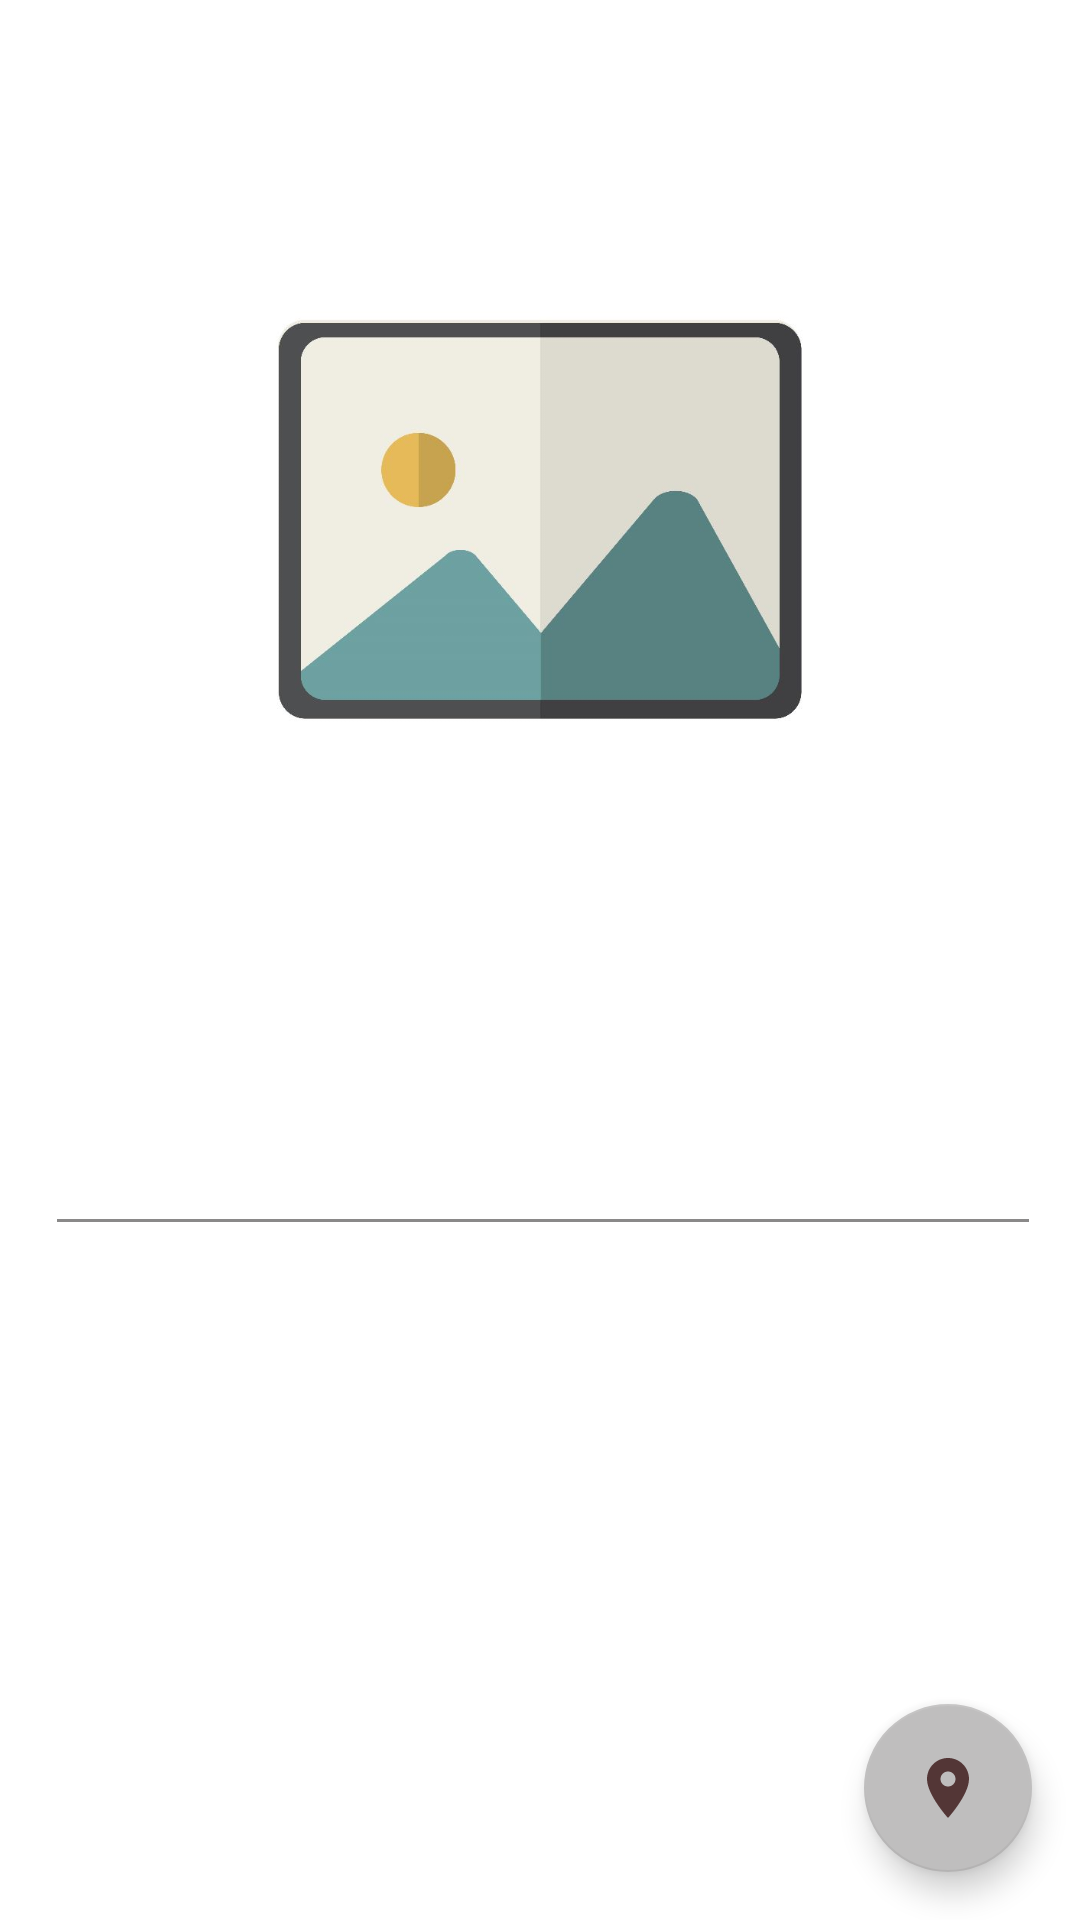

Named icons in this screenshot (1080px×1920px) and their bounding boxes, (x1, y1, x2, y2):
location on: (864, 1704, 1032, 1872)
